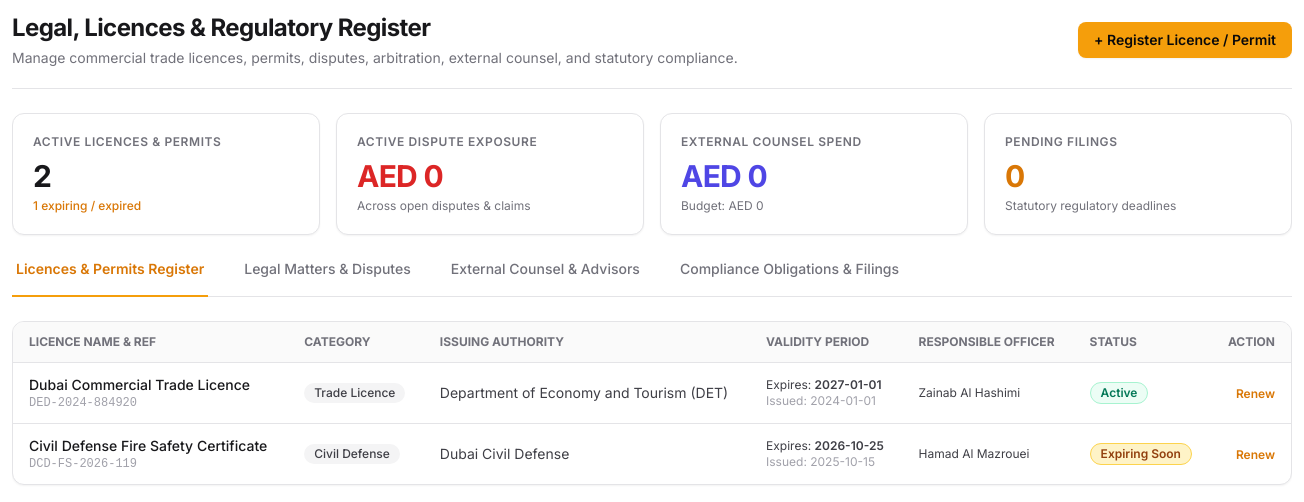
Scenario: LegalPage › navigates to the External Counsel tab and shows law firms
Click the button "External Counsel & Advisors".
click(545, 278)  # box x1=447 y1=259 x2=644 y2=297
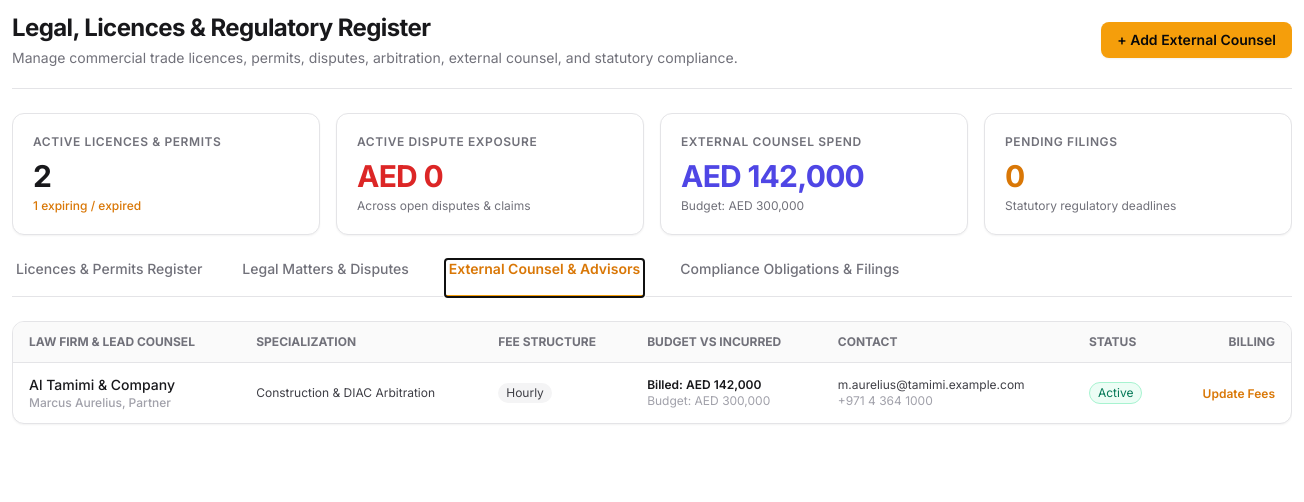
Now the text "Al Tamimi & Company" is shown, box x1=29 y1=376 x2=175 y2=393
Now the text "Marcus Aurelius, Partner" is shown, box x1=29 y1=395 x2=171 y2=410
Now the text "Construction & DIAC Arbitration" is shown, box x1=240 y1=362 x2=482 y2=423
